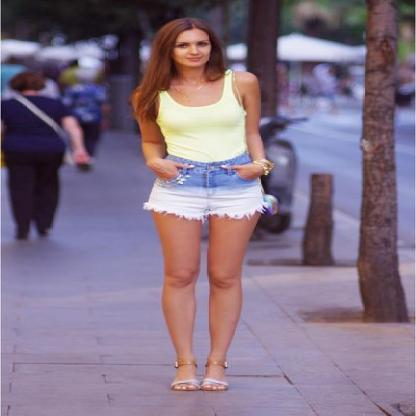shirt: (156, 69, 255, 162)
shoe: (172, 365, 226, 388)
shorts: (144, 152, 268, 222)
